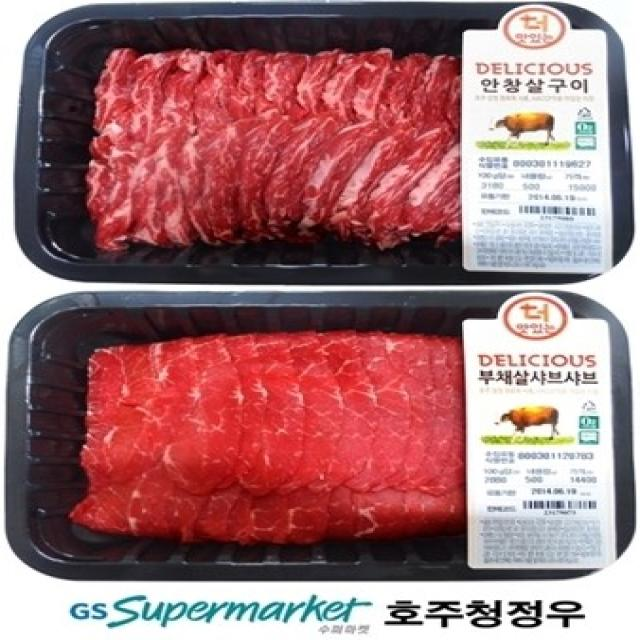beef: (87, 49, 461, 242), (90, 346, 461, 538)
